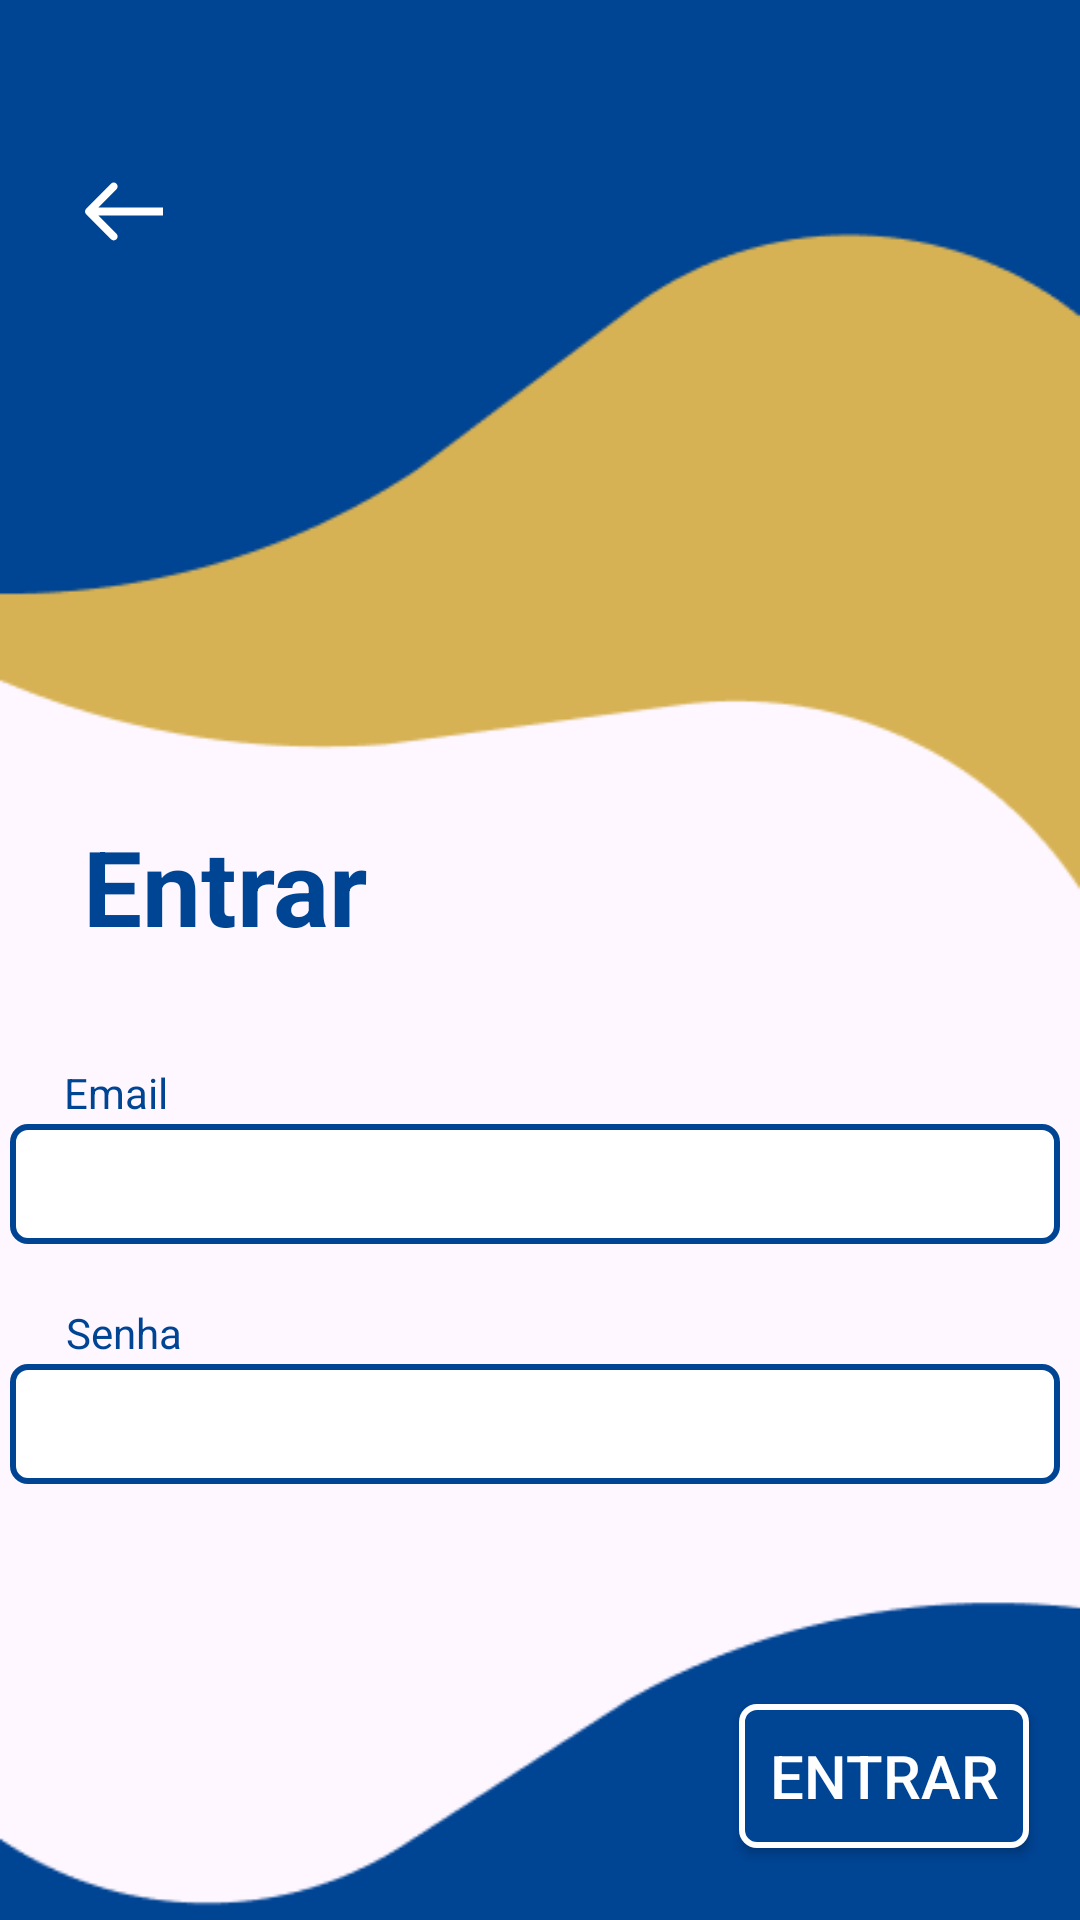

Icons on this 1080x1920 Android screen, each with the point to tap as (x,y):
arrow: (124,211)
